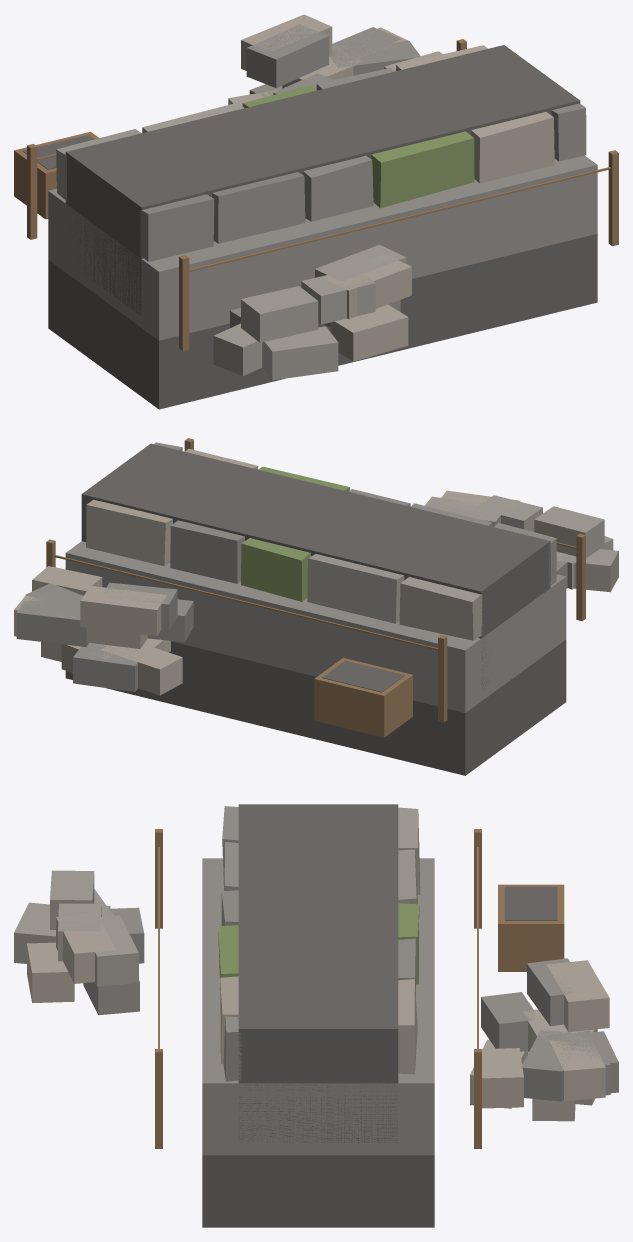
Rendered from SM_Wall_Straight_Build01.fbx.
3 views of the same model, one above another, from view 1: azimuth 30°, elevation 25°; view 2: azimuth 150°, elevation 25°; view 3: azimuth 270°, elevation 25° (orthographic). The views are drawn at different scales.
Visible parts, largest first — view 1: SM_Wall_Straight_Build01; view 2: SM_Wall_Straight_Build01; view 3: SM_Wall_Straight_Build01.
Part boxes in pixels (left/top/right/bottom): SM_Wall_Straight_Build01: left=14, top=14, right=618, bottom=409; SM_Wall_Straight_Build01: left=14, top=438, right=618, bottom=775; SM_Wall_Straight_Build01: left=14, top=804, right=618, bottom=1227.
Bounding box in the file's own units: 4 × 1.65 × 4.55.
